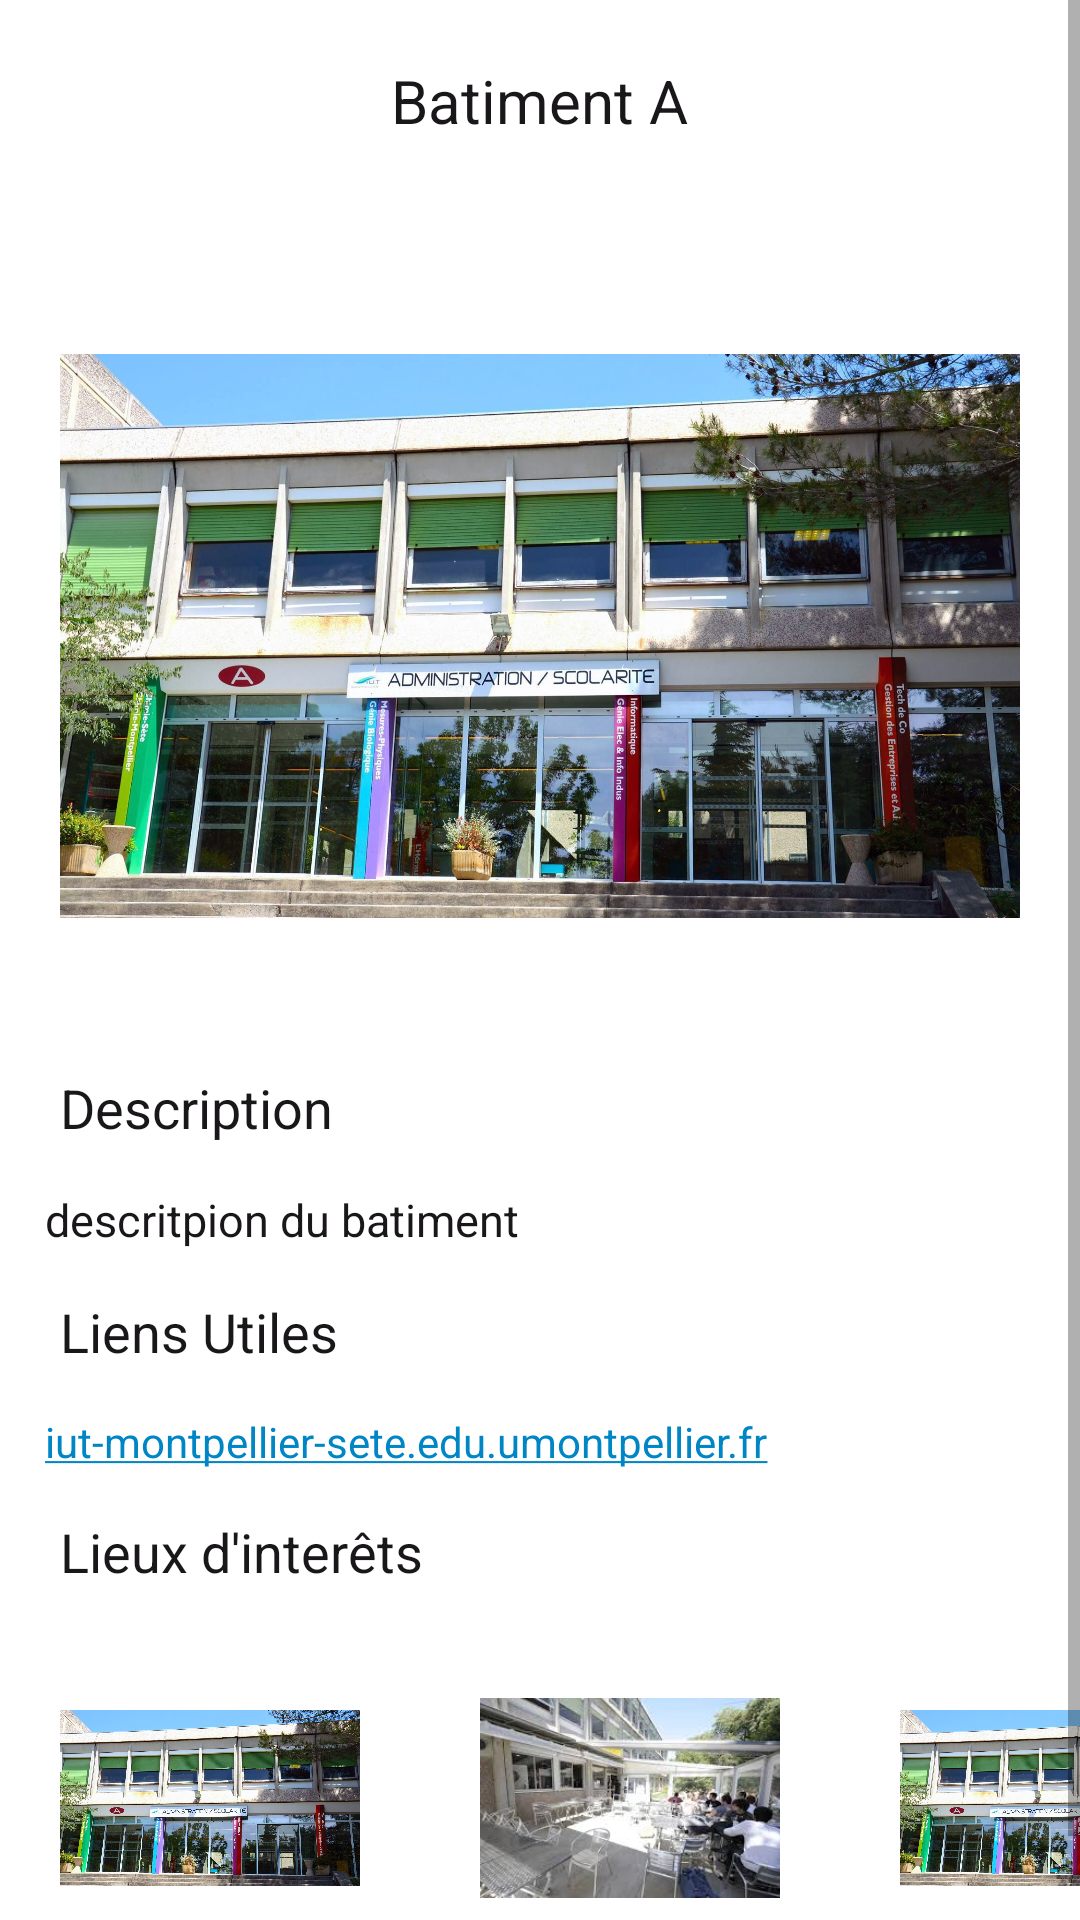

Icon bounding boxes for this 1080 × 1920 phone screenshot, format (x1, y1, x2, y2):
cafet crous: (480, 1698, 780, 1898)
